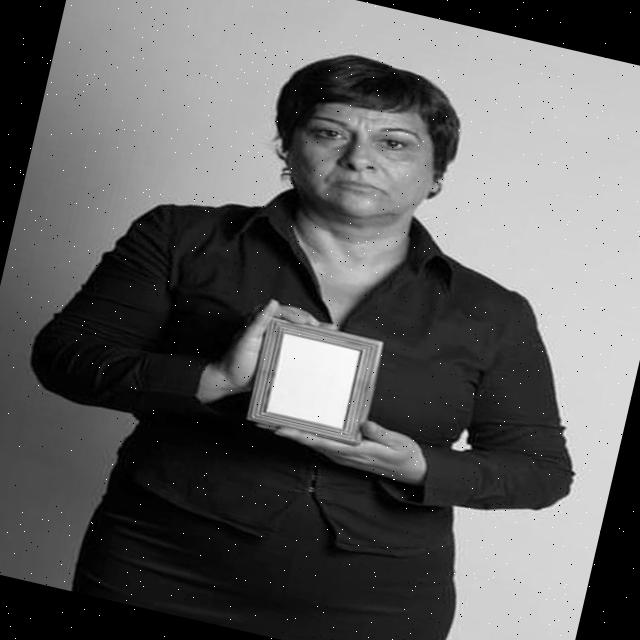Sadness: (284, 83, 438, 230)
